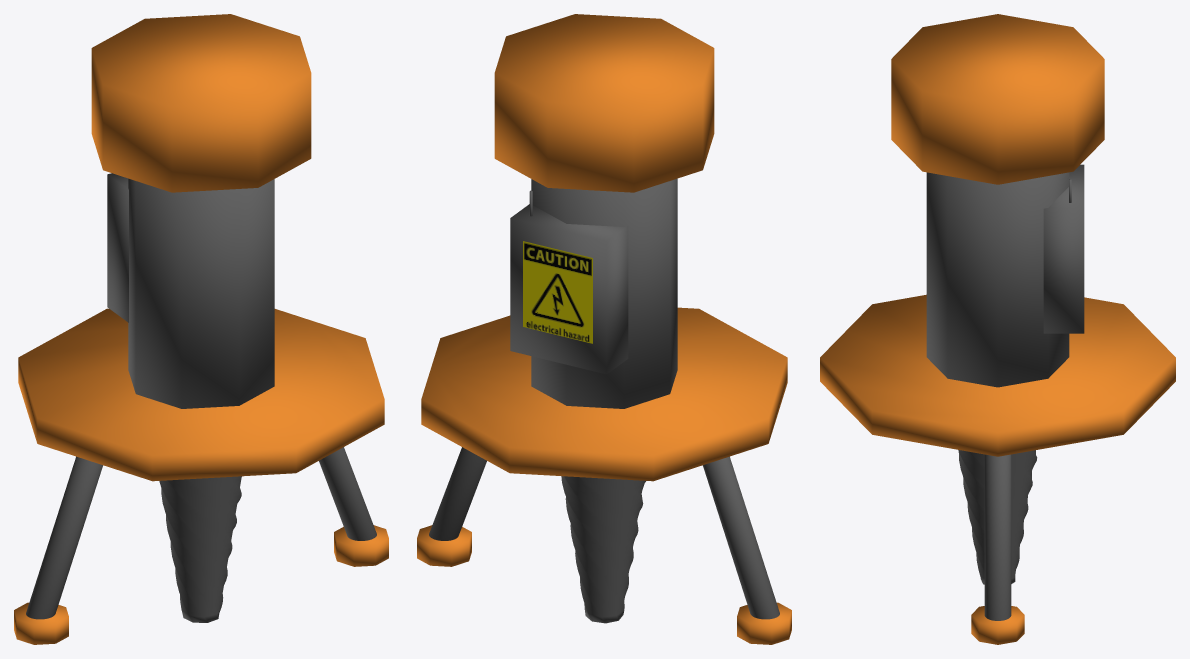
Rendered from Drillonator 1.fbx.
3 views of the same model, side by side, from view 1: azimuth 30°, elevation 25°; view 2: azimuth 150°, elevation 25°; view 3: azimuth 270°, elevation 25° (orthographic). The views are drawn at different scales.
Parts seen in each view (by area): view 1: Base, DrillHousing, Column, DrillBit, Pipe_0.001, Motor, Pipe_0, DrillHousing.002, DrillHousing.001; view 2: Base, DrillHousing, Column, Motor, DrillBit, Ekrānuzņēmums 2025-12-27 124001, Pipe_0.001, Pipe_0, DrillHousing.002, DrillHousing.001; view 3: Base, DrillHousing, Column, Motor, Pipe_0, DrillBit, DrillHousing.002.
Boxes of the visible parts, bbox=[...] form: Base: bbox=[18, 308, 384, 481]; DrillHousing: bbox=[91, 14, 311, 192]; Column: bbox=[128, 178, 274, 408]; DrillBit: bbox=[159, 476, 241, 622]; Pipe_0.001: bbox=[26, 456, 102, 619]; Motor: bbox=[107, 173, 128, 322]; Pipe_0: bbox=[319, 447, 376, 540]; DrillHousing.002: bbox=[334, 525, 388, 566]; DrillHousing.001: bbox=[14, 602, 68, 644]; Base: bbox=[421, 307, 787, 481]; DrillHousing: bbox=[494, 14, 714, 192]; Column: bbox=[531, 178, 677, 408]; Motor: bbox=[510, 204, 628, 374]; DrillBit: bbox=[561, 476, 645, 623]; Ekrānuzņēmums 2025-12-27 124001: bbox=[523, 241, 592, 343]; Pipe_0.001: bbox=[703, 456, 779, 619]; Pipe_0: bbox=[429, 447, 486, 540]; DrillHousing.002: bbox=[417, 525, 471, 566]; DrillHousing.001: bbox=[737, 602, 791, 644]; Base: bbox=[820, 294, 1175, 456]; DrillHousing: bbox=[891, 14, 1104, 184]; Column: bbox=[926, 172, 1069, 387]; Motor: bbox=[1043, 164, 1084, 333]; Pipe_0: bbox=[984, 454, 1011, 620]; DrillBit: bbox=[958, 450, 1037, 584]; DrillHousing.002: bbox=[971, 606, 1024, 644].
Size of the model in its own units: 450 by 646 by 400.
